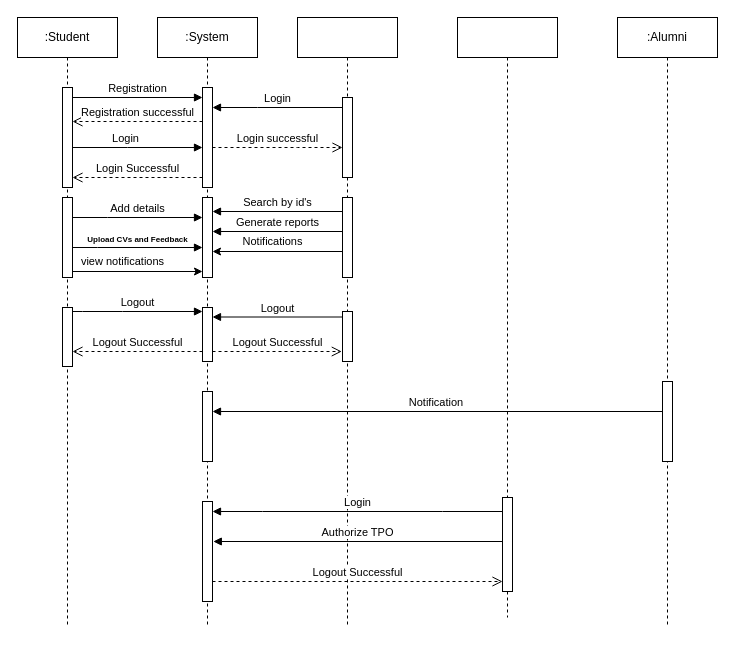
This 735x645 diagram has some shape labels left out. The box of each missing label's shape, as (x1, y1, x2, y2) in pixels:
:Admin: (456, 16, 558, 618)
:TPO: (296, 16, 398, 628)
